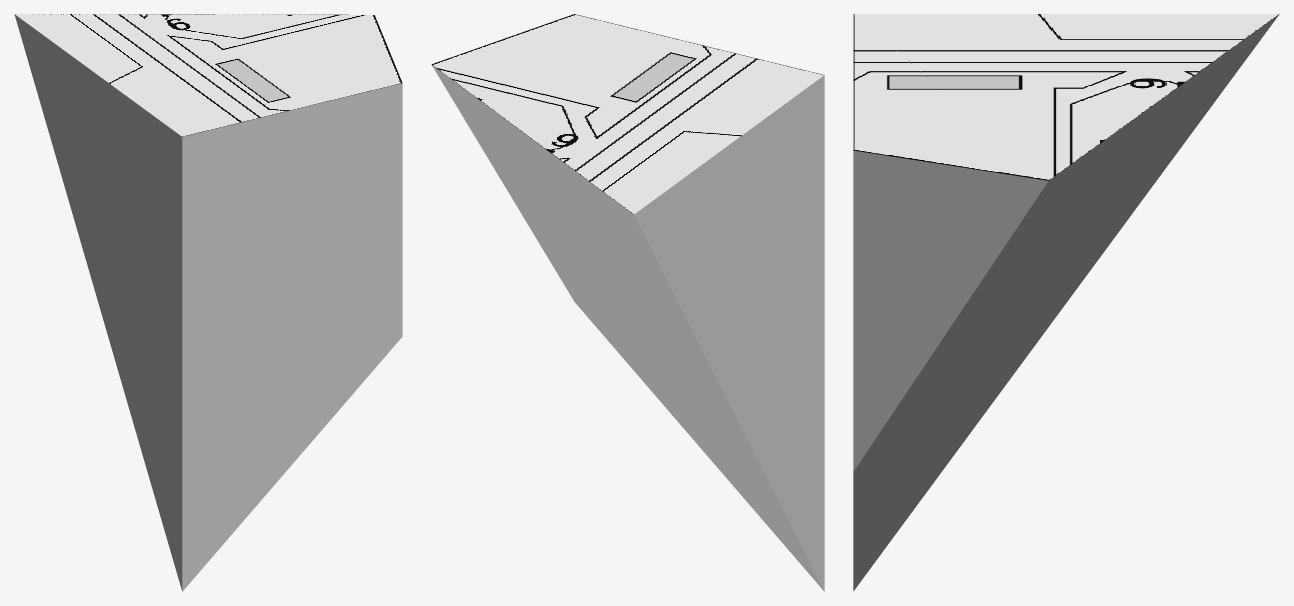
File: Left_W.glb
3 views of the same model, side by side, from view 1: azimuth 30°, elevation 25°; view 2: azimuth 150°, elevation 25°; view 3: azimuth 270°, elevation 25° (orthographic). The views are drawn at different scales.
Visible parts, largest first — view 1: Left_W; view 2: Left_W; view 3: Left_W.
Part boxes in pixels (box(x1,y1,x2,y2)): Left_W: box(14, 14, 402, 591); Left_W: box(431, 14, 824, 591); Left_W: box(853, 14, 1279, 591).
Bounding box in the file's own units: 1.68 × 2.71 × 1.81.
2 materials, 1 textured.
